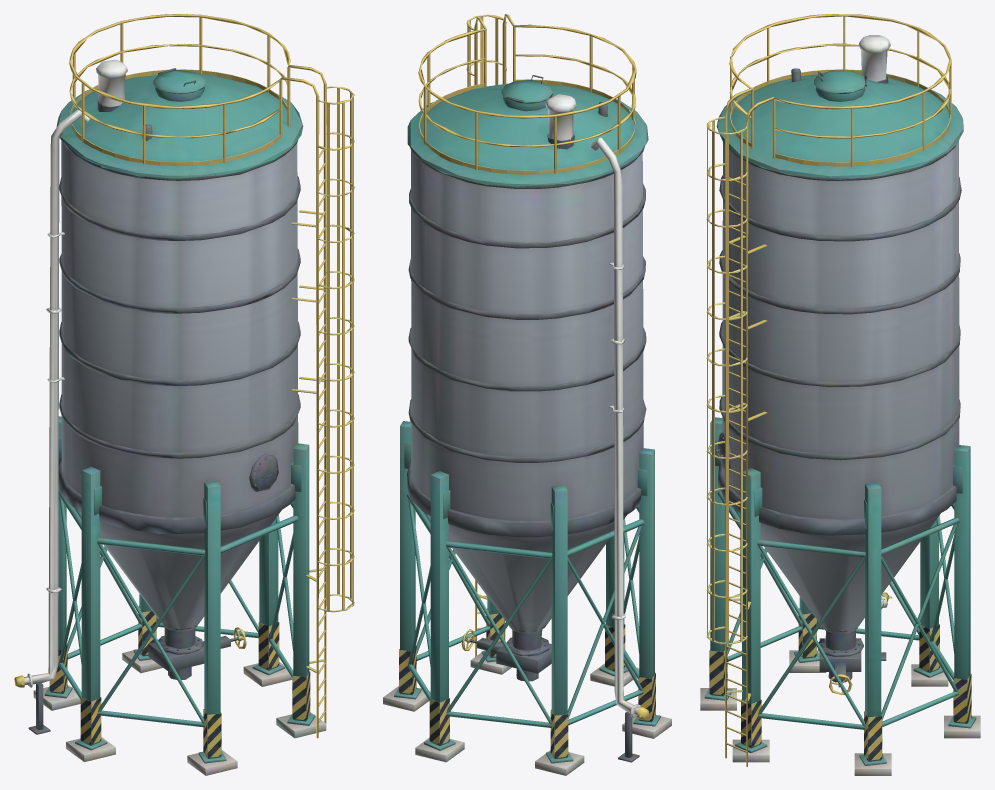
Rendered from silo.glb.
The picture shows the model from 3 angles, left to right: view 1: azimuth 30°, elevation 25°; view 2: azimuth 150°, elevation 25°; view 3: azimuth 270°, elevation 25°; orthographic projection.
Parts seen in each view (by area): view 1: silo_body; view 2: silo_body; view 3: silo_body.
Part boxes in pixels (left/top/right/bottom): silo_body: left=14, top=14, right=354, bottom=775; silo_body: left=383, top=14, right=671, bottom=775; silo_body: left=700, top=14, right=980, bottom=775.
Size of the model in its own units: 5.15 by 12.21 by 4.71.
1 material, 1 textured.
